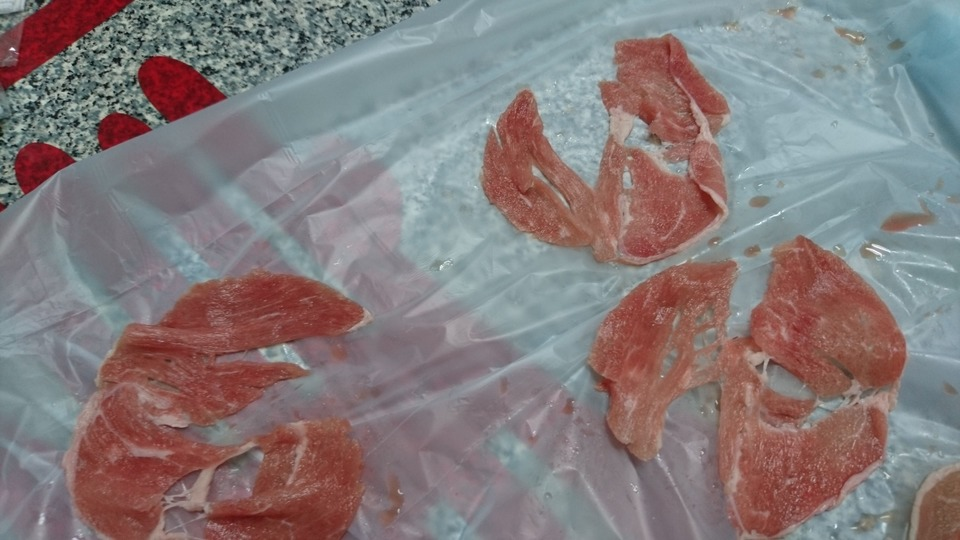restructured meat: (70, 274, 389, 533), (603, 248, 908, 517), (479, 32, 735, 263)
